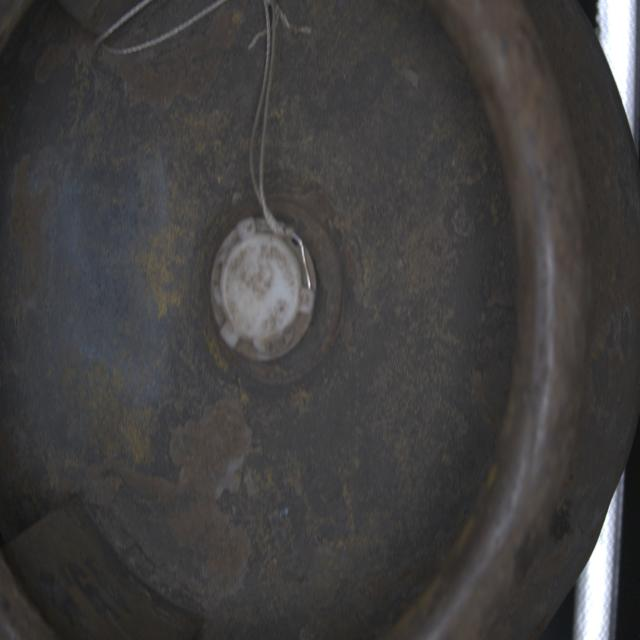Cap: (210, 216, 317, 364)
